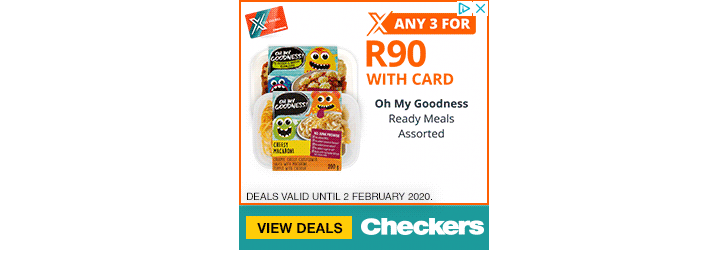fake_button: (241, 210, 360, 245)
